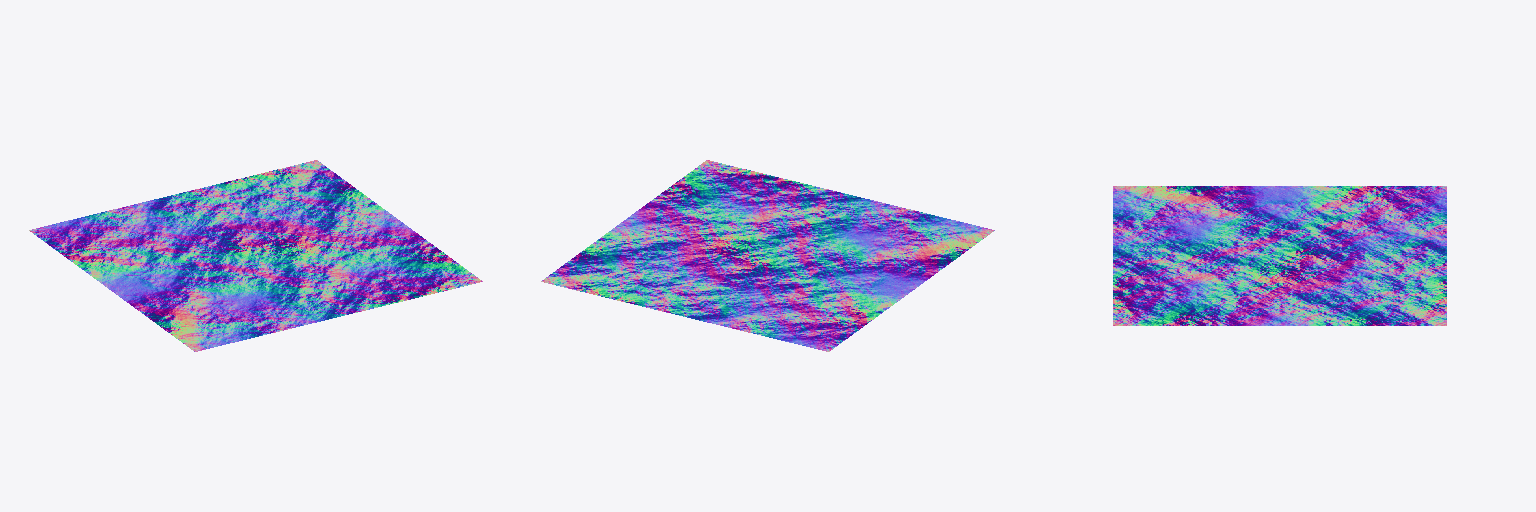
3 renders of one model, left to right at view 1: azimuth 30°, elevation 25°; view 2: azimuth 150°, elevation 25°; view 3: azimuth 270°, elevation 25°, orthographic.
Visible parts, largest first — view 1: Grid; view 2: Grid; view 3: Grid.
Part boxes in pixels (bbox=[...]): Grid: bbox=[29, 160, 482, 351]; Grid: bbox=[541, 160, 994, 351]; Grid: bbox=[1113, 186, 1446, 325].
Bounding box in the file's own units: 2 × 0 × 2.
Materials: 1 (1 with a texture image).